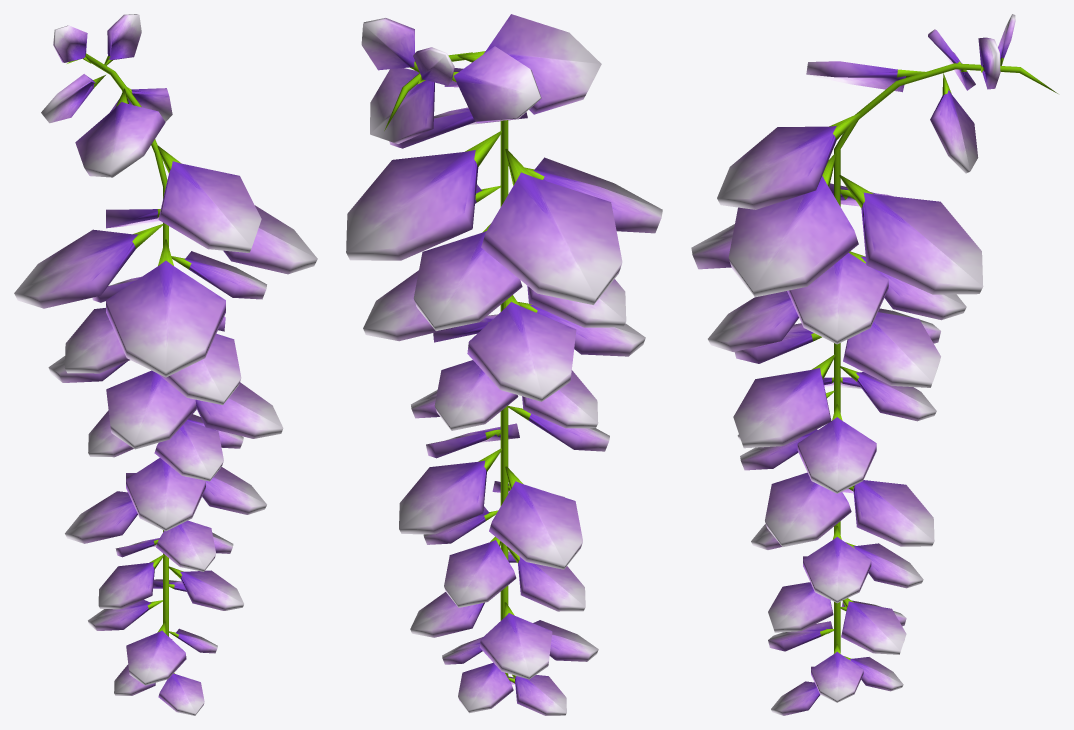
The model's file is wisteria.fbx.
3 renders of one model, left to right at view 1: azimuth 30°, elevation 25°; view 2: azimuth 150°, elevation 25°; view 3: azimuth 270°, elevation 25°, orthographic. The views are drawn at different scales.
Parts seen in each view (by area): view 1: wisteria.petal.016, wisteria.petal.032, wisteria.petal.017, wisteria.petal.025, wisteria.petal.033, wisteria.petal.012, wisteria.petal.023, wisteria.petal.019, wisteria.petal.024, wisteria.petal.022, wisteria.petal.030, wisteria.petal.007 (+18 smaller); view 2: wisteria.petal.017, wisteria.petal.018, wisteria.petal.026, wisteria.petal.021, wisteria.petal.033, wisteria.petal.015, wisteria.petal.014, wisteria.petal.034, wisteria.petal.028, wisteria.petal.037, wisteria.petal.016, wisteria.petal.009 (+20 smaller); view 3: wisteria.petal.019, wisteria.petal.018, wisteria.petal.032, wisteria.petal.024, wisteria.petal.020, wisteria.petal.027, wisteria.petal.013, wisteria.petal.014, wisteria.petal.031, wisteria.petal.023, wisteria.petal.010, wisteria.petal.005 (+16 smaller).
Part boxes in pixels (x1,y1,x2,y2): wisteria.petal.016: [106, 239, 225, 377]; wisteria.petal.032: [157, 145, 261, 252]; wisteria.petal.017: [14, 224, 163, 308]; wisteria.petal.025: [106, 370, 196, 449]; wisteria.petal.033: [75, 88, 165, 177]; wisteria.petal.012: [126, 458, 205, 531]; wisteria.petal.023: [157, 333, 241, 404]; wisteria.petal.019: [223, 205, 317, 274]; wisteria.petal.024: [195, 382, 283, 438]; wisteria.petal.022: [64, 308, 129, 373]; wisteria.petal.030: [154, 421, 223, 481]; wisteria.petal.007: [126, 621, 186, 685]; wisteria.petal.017: [481, 149, 622, 304]; wisteria.petal.018: [346, 130, 501, 260]; wisteria.petal.026: [467, 295, 576, 401]; wisteria.petal.021: [413, 224, 522, 330]; wisteria.petal.033: [457, 14, 601, 114]; wisteria.petal.015: [489, 466, 582, 569]; wisteria.petal.014: [399, 448, 501, 534]; wisteria.petal.034: [452, 46, 541, 122]; wisteria.petal.028: [434, 360, 518, 430]; wisteria.petal.037: [370, 68, 434, 143]; wisteria.petal.016: [508, 157, 662, 233]; wisteria.petal.009: [444, 536, 516, 607]; wisteria.petal.019: [728, 153, 858, 297]; wisteria.petal.018: [839, 175, 983, 294]; wisteria.petal.032: [717, 113, 860, 209]; wisteria.petal.024: [733, 354, 835, 448]; wisteria.petal.020: [787, 253, 888, 344]; wisteria.petal.027: [843, 312, 940, 387]; wisteria.petal.013: [765, 472, 851, 547]; wisteria.petal.014: [852, 480, 934, 546]; wisteria.petal.031: [797, 404, 876, 493]; wisteria.petal.023: [708, 291, 798, 351]; wisteria.petal.010: [803, 526, 871, 603]; wisteria.petal.005: [841, 598, 906, 654].
Size of the model in its own units: 380 by 301 by 785.
